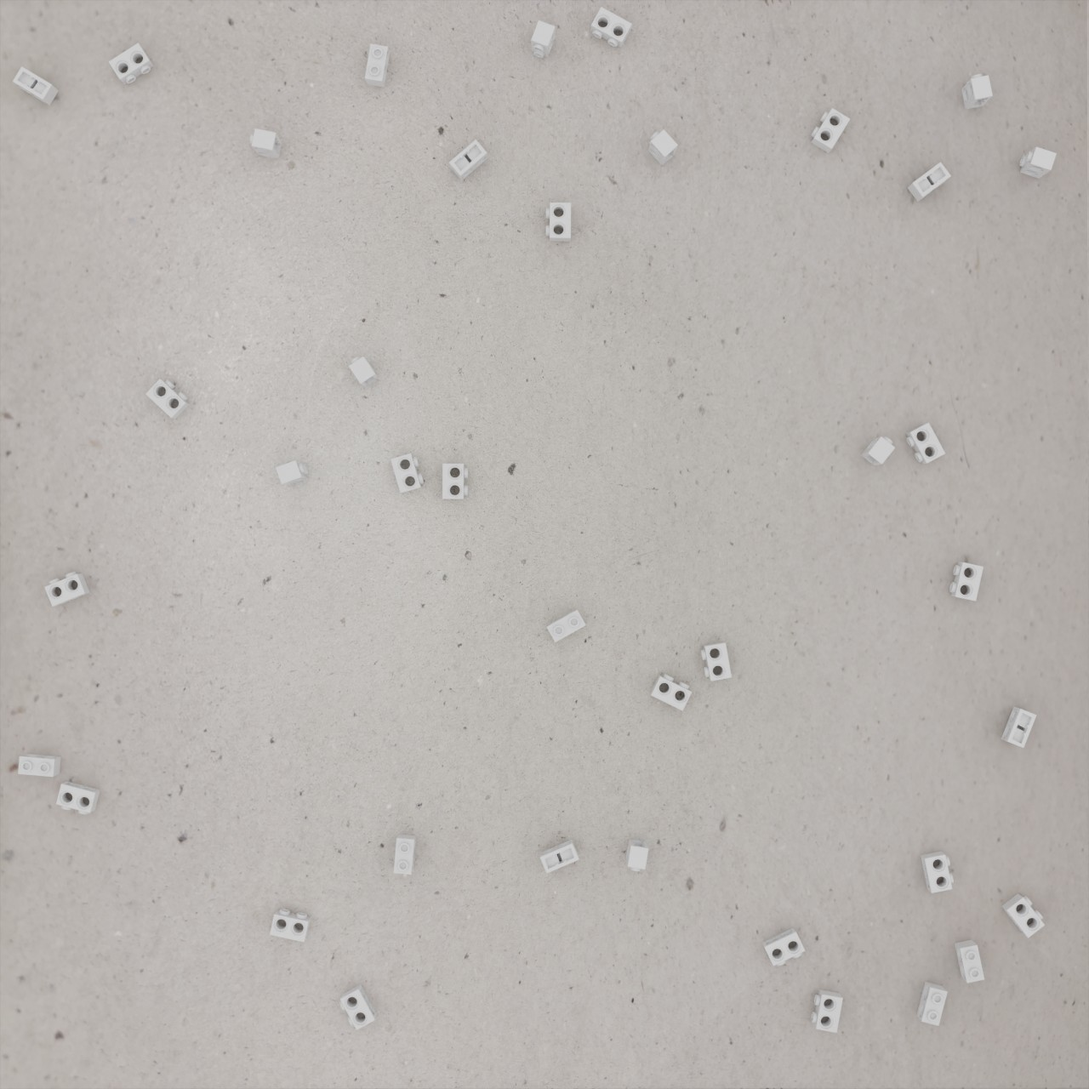lego: (1001, 893, 1045, 938), (108, 43, 154, 85), (12, 66, 59, 106), (145, 379, 190, 420), (811, 108, 850, 154), (907, 162, 951, 202), (339, 984, 377, 1030), (591, 7, 632, 48), (906, 422, 946, 464), (762, 927, 805, 966), (44, 571, 90, 607), (449, 139, 488, 181), (650, 674, 692, 711), (56, 781, 101, 815), (1001, 706, 1037, 748), (916, 981, 948, 1026), (920, 851, 954, 893), (811, 989, 843, 1033), (390, 453, 424, 494), (949, 562, 984, 601), (540, 839, 579, 874), (270, 909, 311, 942), (954, 940, 985, 983), (547, 609, 586, 642), (1019, 147, 1057, 179), (701, 642, 732, 681), (961, 74, 993, 110), (648, 129, 678, 166), (365, 44, 390, 88), (18, 753, 61, 777), (861, 436, 895, 466), (250, 128, 282, 159), (546, 202, 571, 241), (349, 356, 379, 388), (531, 20, 555, 58), (442, 464, 468, 499), (394, 834, 416, 875), (275, 460, 308, 486), (626, 839, 649, 871)
